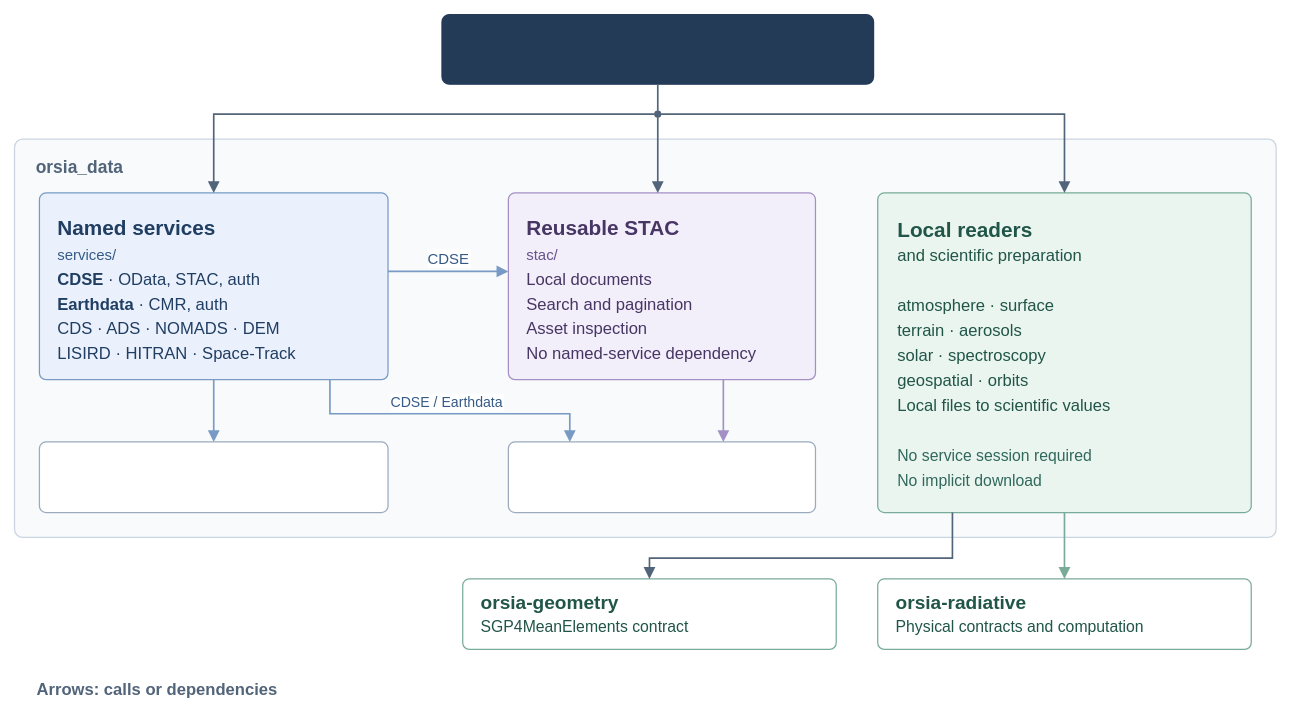
The diagram is 1291 pixels wide and 715 high, and some of its shapes have lost their labels. Each missing label, with the box of its shape:
acquisition.py Native-file transfer and publication: (38, 441, 388, 513)
Application Selections, paths and execution policy: (441, 14, 874, 84)
http.py Bounded JSON requests: (507, 441, 816, 513)
